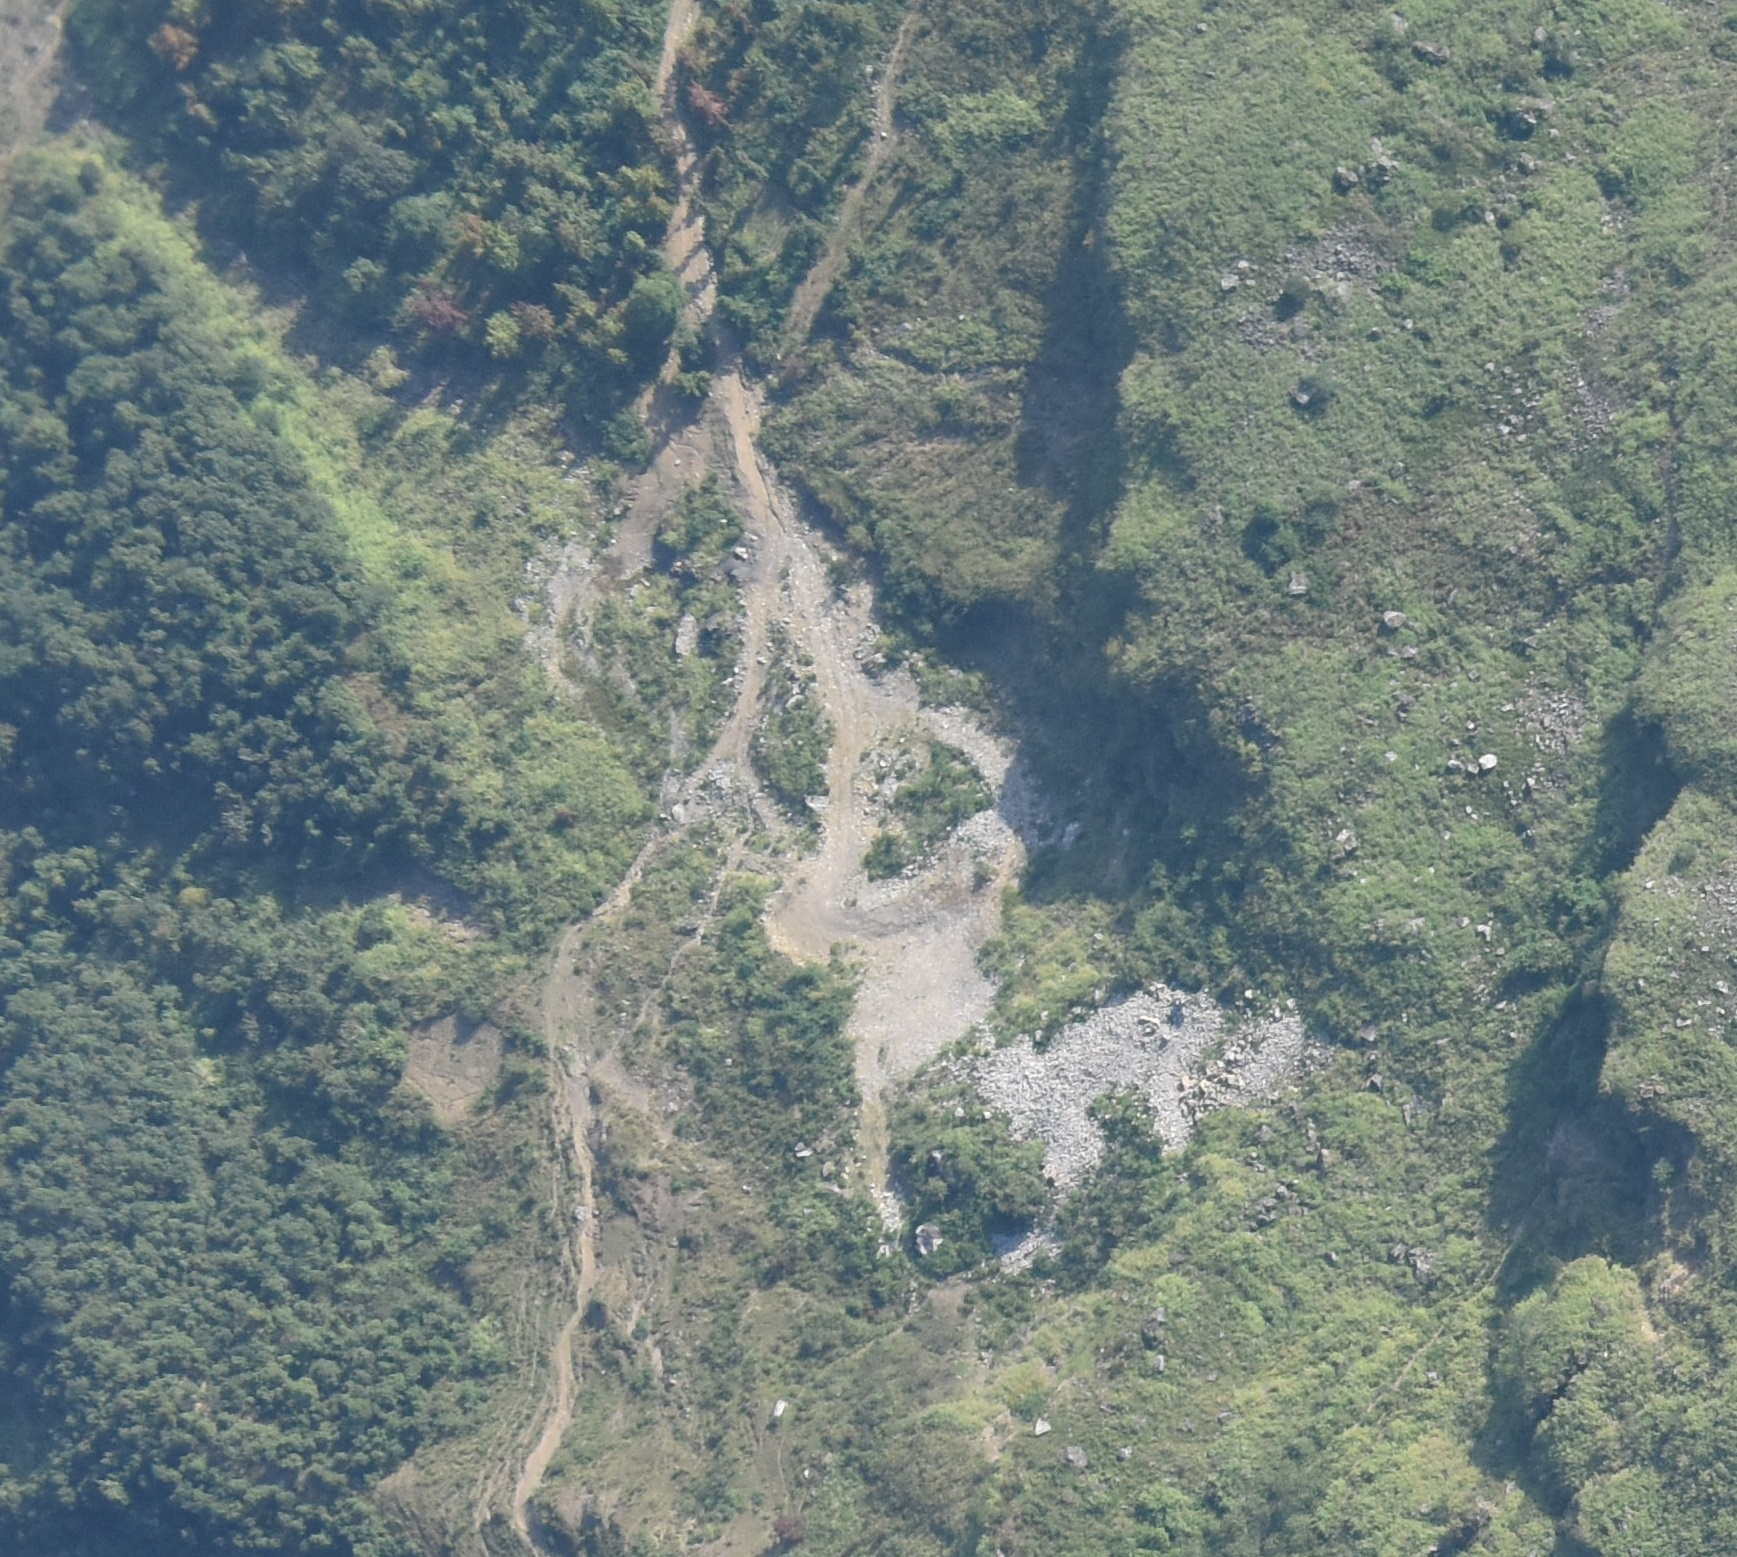quarry: (858, 984, 1337, 1268), (760, 694, 1043, 1069)
